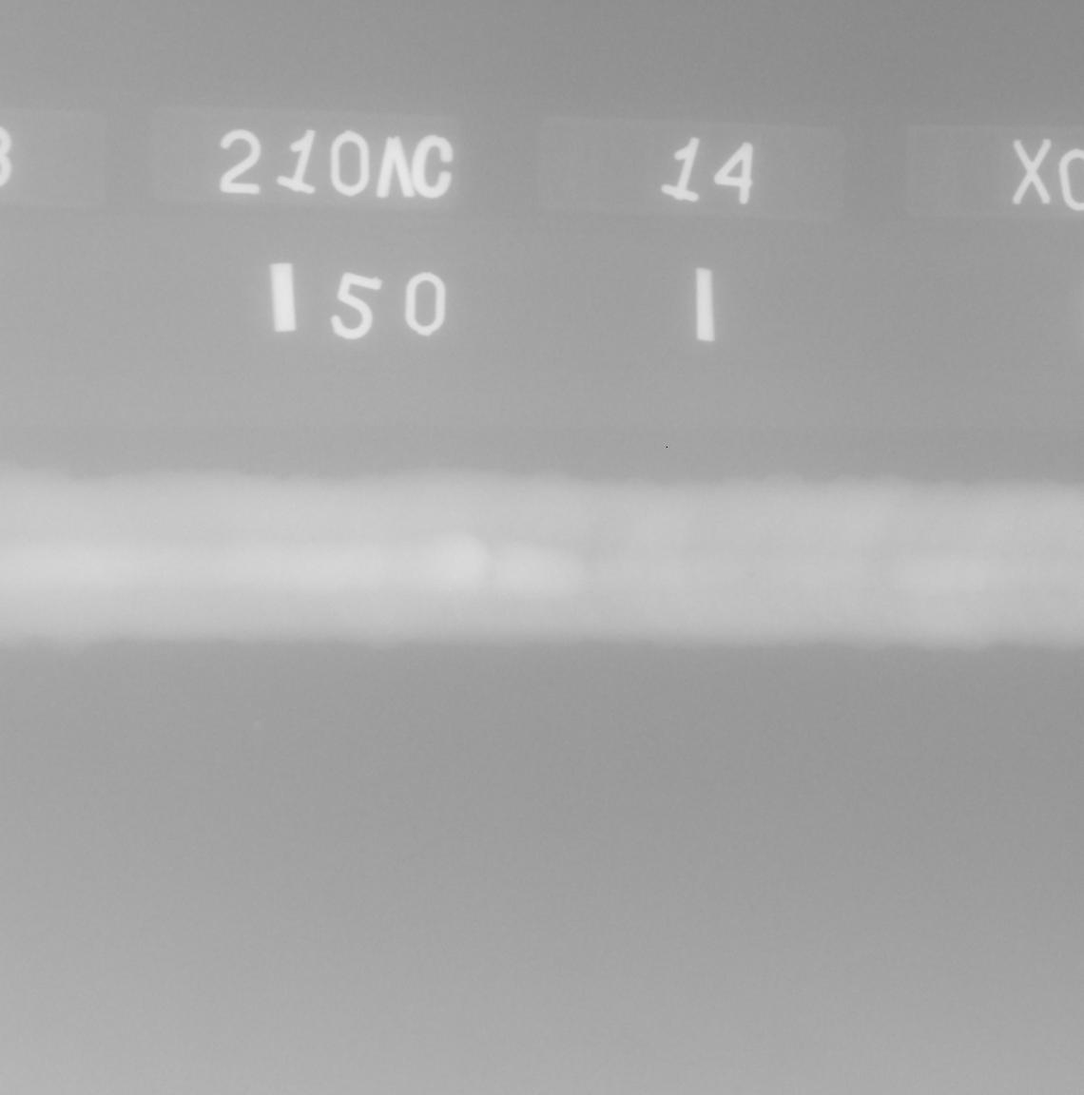Inclusion: (11, 521, 18, 529), (537, 592, 542, 597)
Pore/Porosity: (312, 538, 317, 543), (751, 573, 754, 578)
